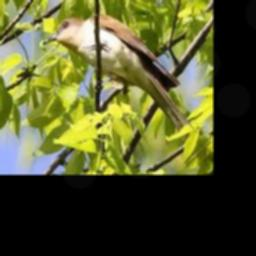Cuckoo: (43, 15, 195, 145)
